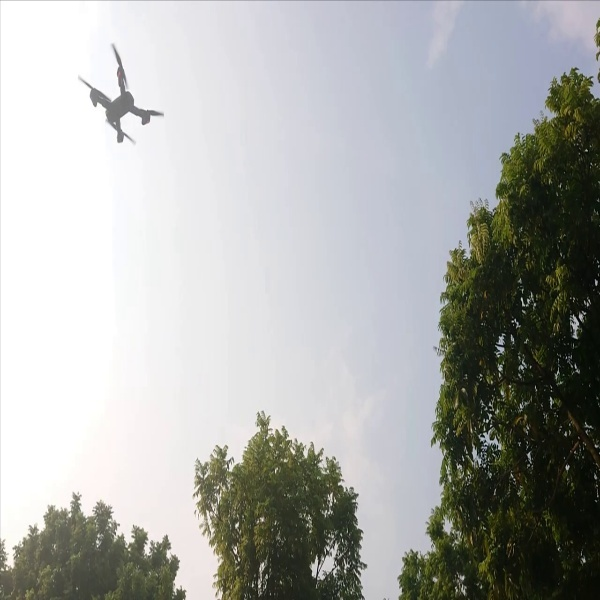drone: (75, 39, 165, 153)
